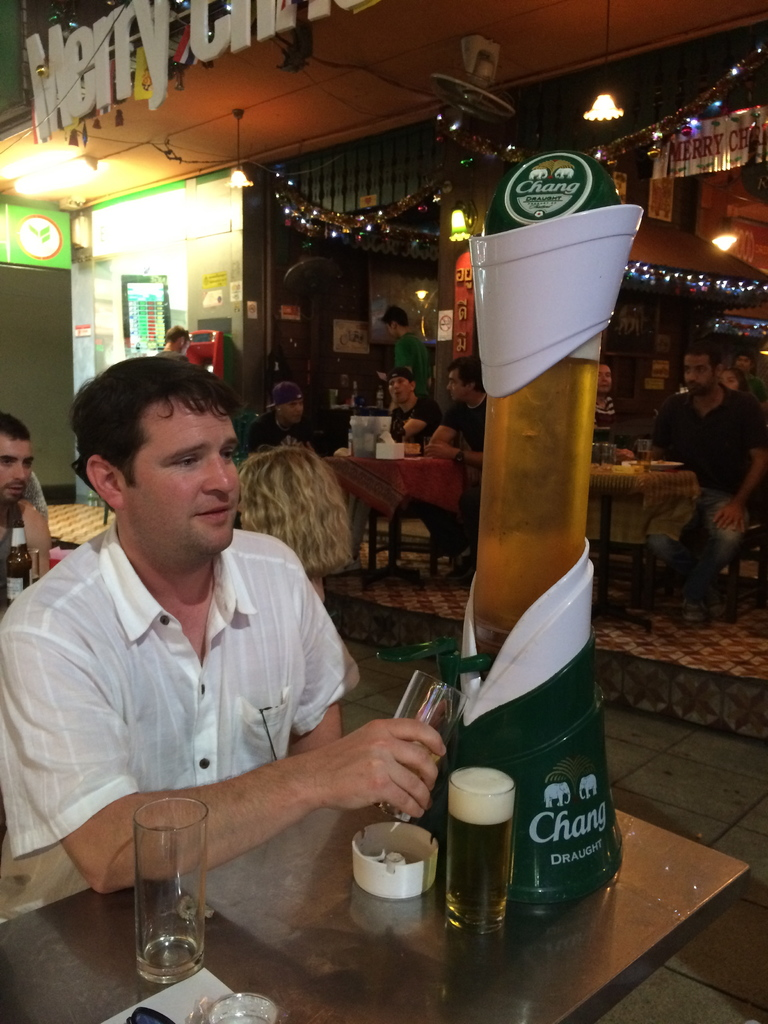Beer: (446, 764, 510, 928), (0, 520, 33, 602)
